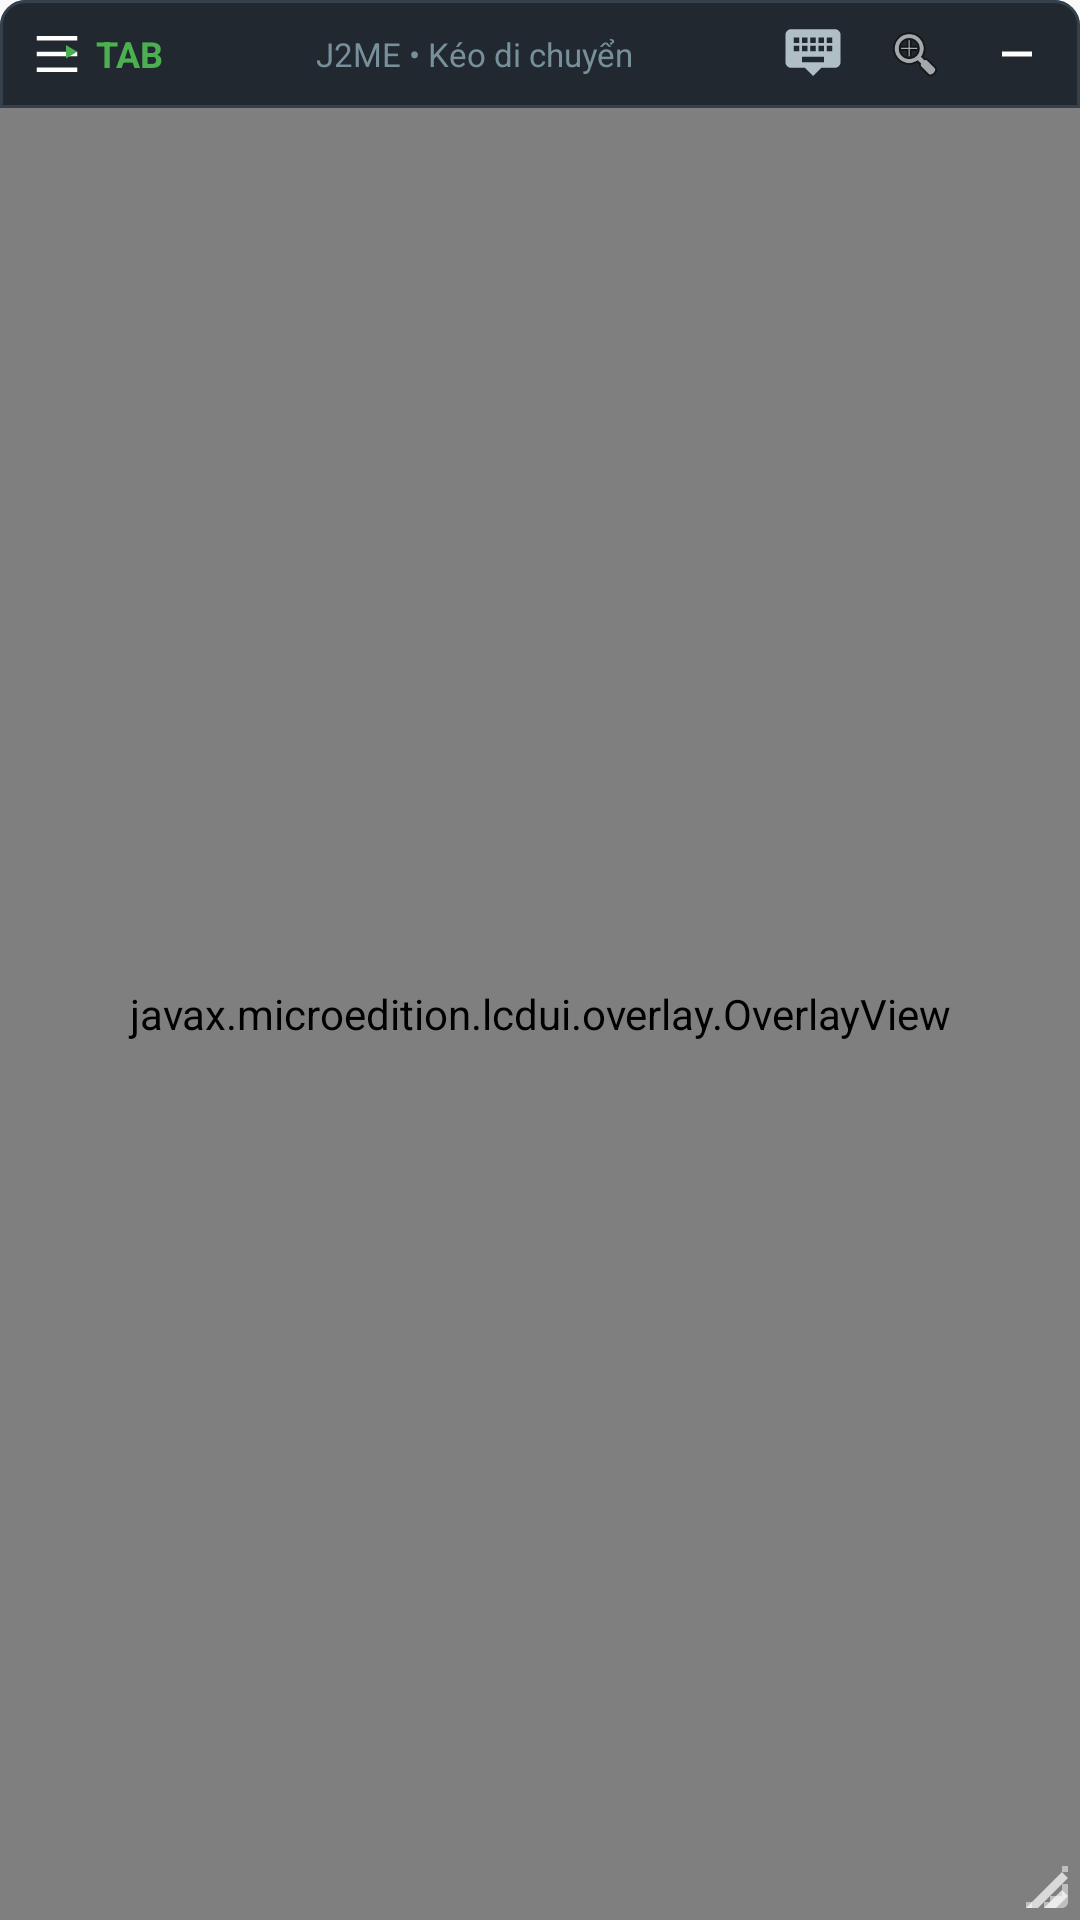

Screen size 1080 x 1920. Icon name, then its center in pixels as (x,y):
menu: (57,54)
minimize: (1017,54)
resize corner: (1047,1887)
zoom: (915,54)
Ẩn bàn phím: (813,52)
